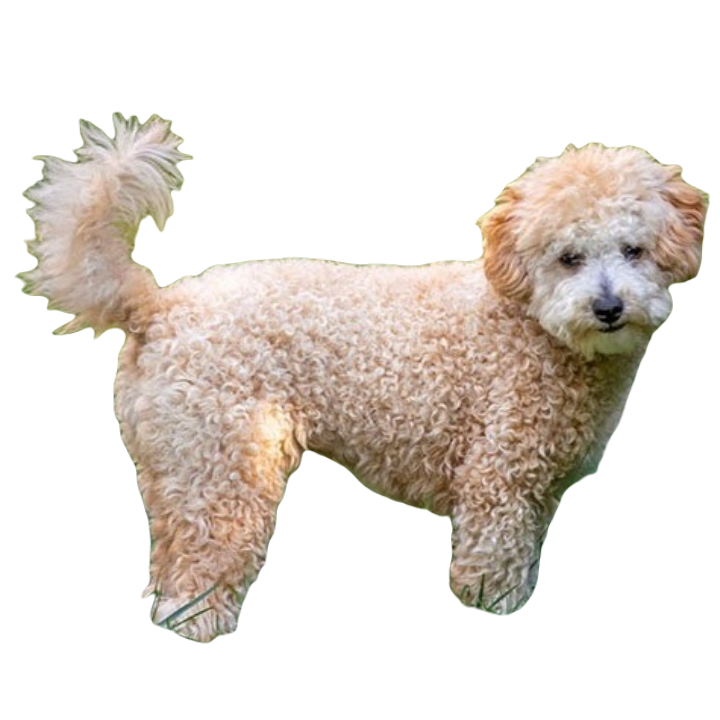Dog: (18, 117, 709, 641)
